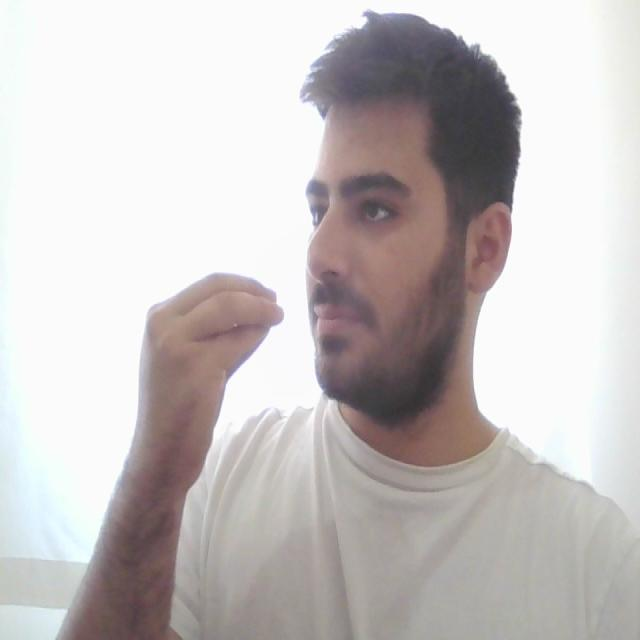Yemek: (144, 271, 360, 355)
